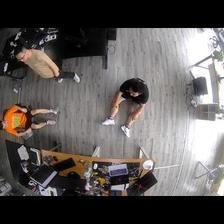fall: (103, 77, 151, 139)
normal: (12, 43, 79, 83), (1, 104, 57, 136)
